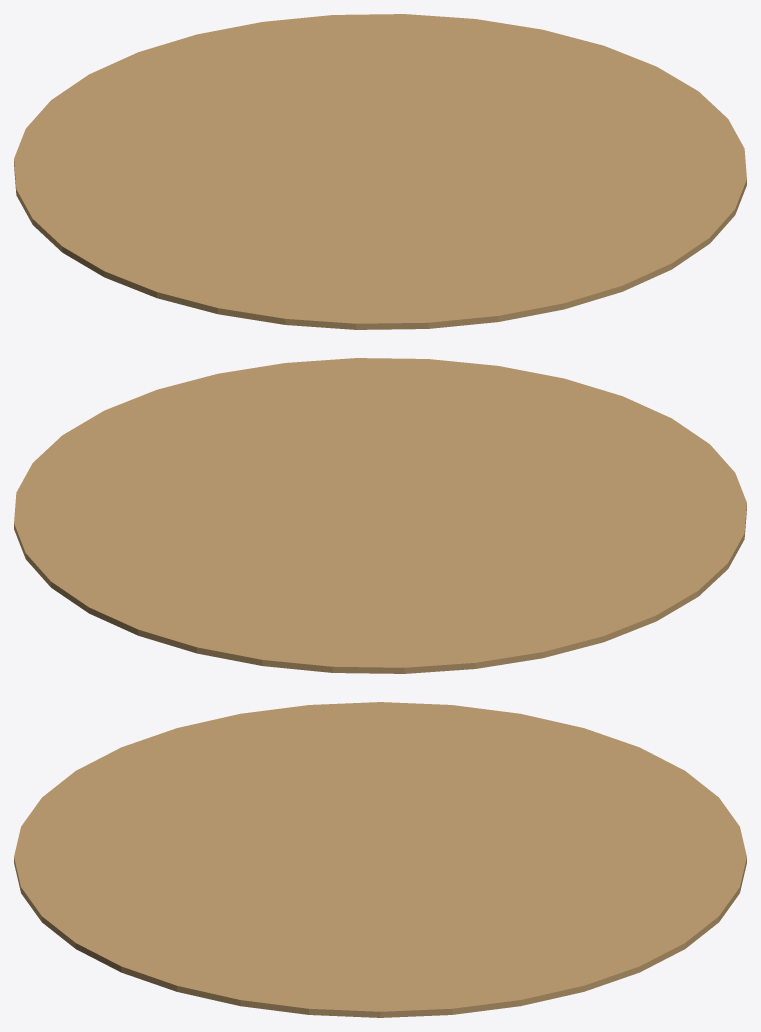
The model's file is SunPlatform.fbx.
The picture shows the model from 3 angles, top to bottom: view 1: azimuth 30°, elevation 25°; view 2: azimuth 150°, elevation 25°; view 3: azimuth 270°, elevation 25°; orthographic projection.
Parts seen in each view (by area): view 1: Cylinder; view 2: Cylinder; view 3: Cylinder.
Boxes of the visible parts, bbox=[...] form: Cylinder: bbox=[14, 14, 746, 329]; Cylinder: bbox=[14, 358, 746, 673]; Cylinder: bbox=[14, 702, 746, 1017].
Bounding box in the file's own units: 3928 × 36.52 × 3928.
